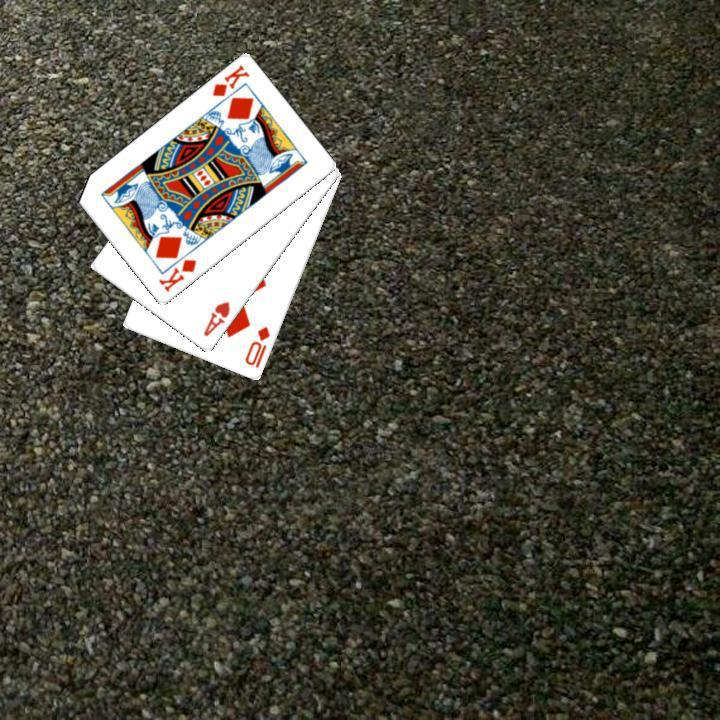10: (241, 322, 272, 370)
A: (199, 297, 232, 339)
K: (154, 255, 199, 294), (208, 60, 251, 99)
